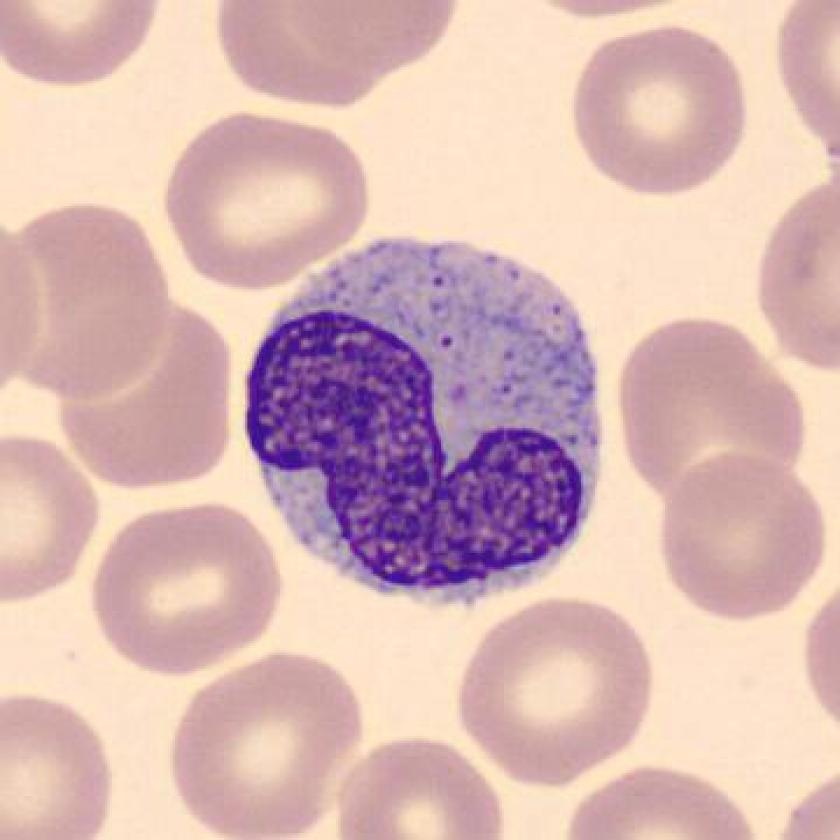monocyte: (232, 219, 617, 624)
